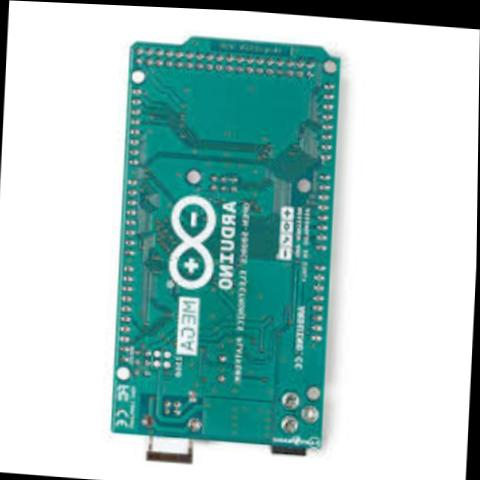Arduino-Mega: (92, 21, 350, 480)
